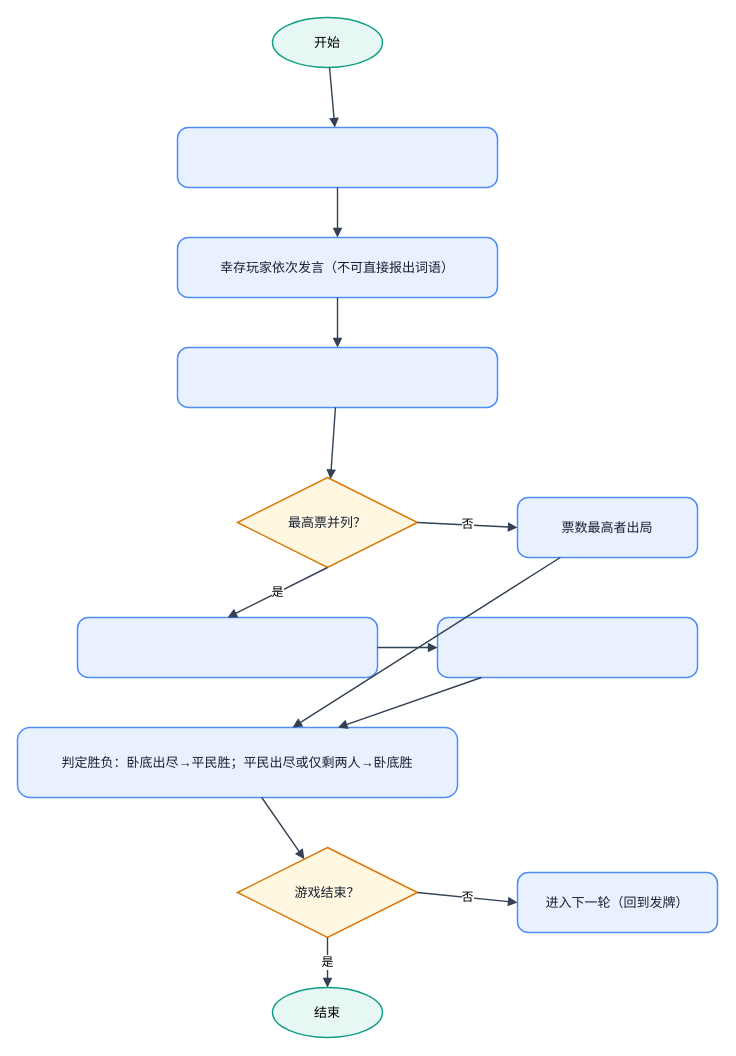
Some shapes in this 736 by 1056 pixel diagram are drawn without their labels. The shapes that lost their labels are listed below. From the top down, each one's centre as x and y in pixels, then its label:
At (x=337, y=157): "本轮发牌：为每位玩家发放词牌".
At (x=337, y=377): "全体投票（候选人同样有投票权）".
At (x=227, y=647): "进入加赛：候选人补充发言后投票".
At (x=567, y=647): "最高票出局（再平票无人出局）".
